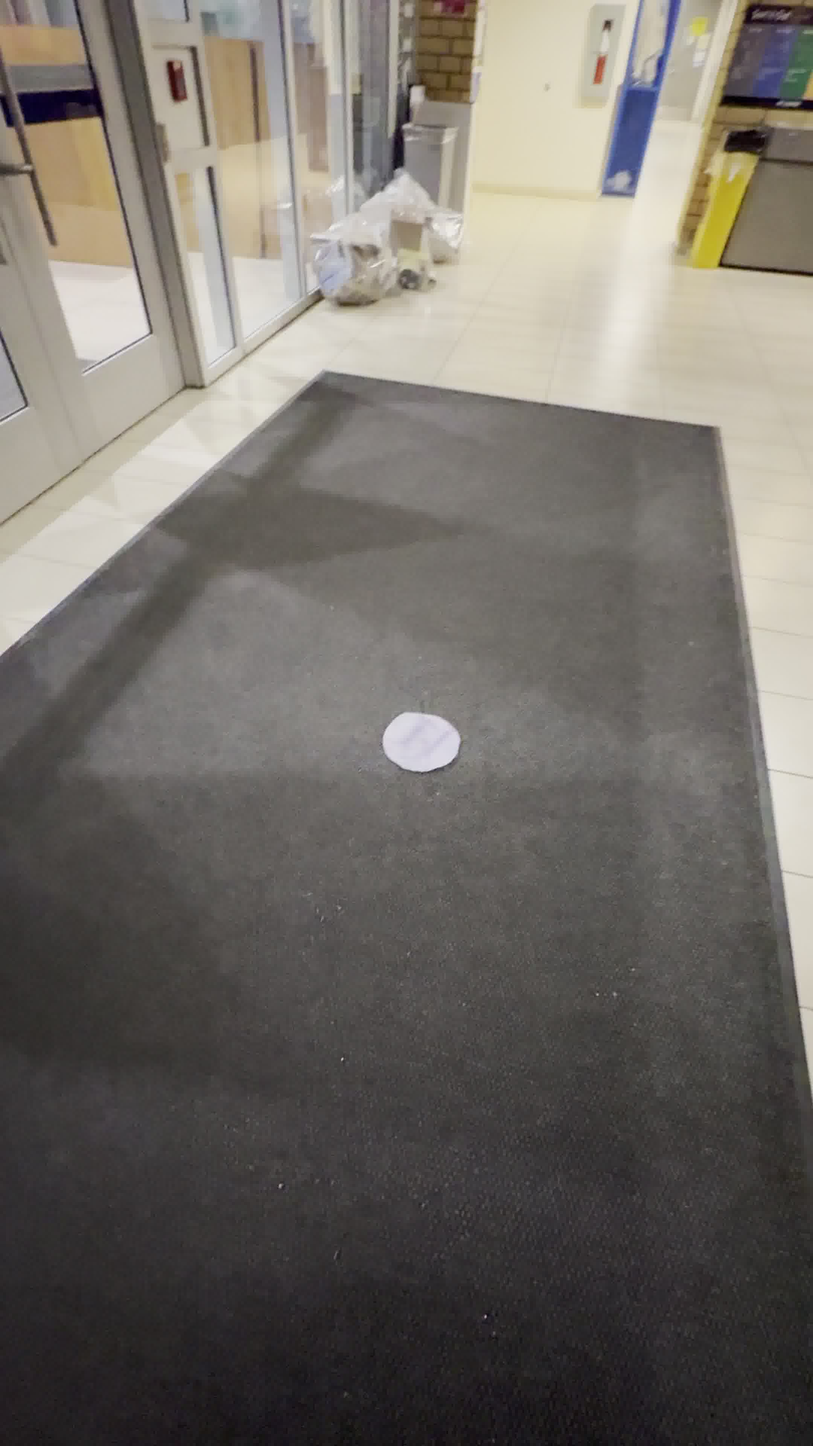Target: (382, 712, 460, 773)
